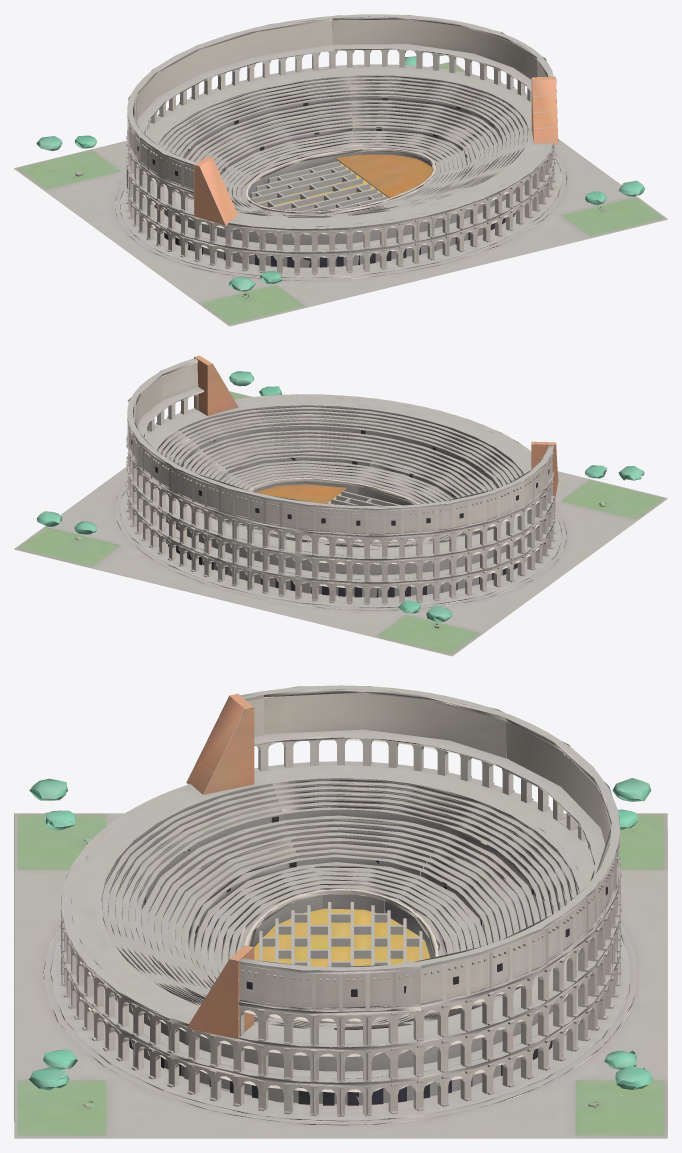
File: Italy_Colosseum_CC0_Light.fbx
The picture shows the model from 3 angles, top to bottom: view 1: azimuth 30°, elevation 25°; view 2: azimuth 150°, elevation 25°; view 3: azimuth 270°, elevation 25°; orthographic projection. The views are drawn at different scales.
Visible parts, largest first — view 1: colosseum_body; view 2: colosseum_body; view 3: colosseum_body.
Boxes of the visible parts, left/top/right/bottom form: colosseum_body: left=14, top=14, right=667, bottom=326; colosseum_body: left=14, top=355, right=667, bottom=656; colosseum_body: left=14, top=685, right=667, bottom=1138.
Bounding box in the file's own units: 216 × 46.3 × 184.
Materials: 1 (1 with a texture image).
